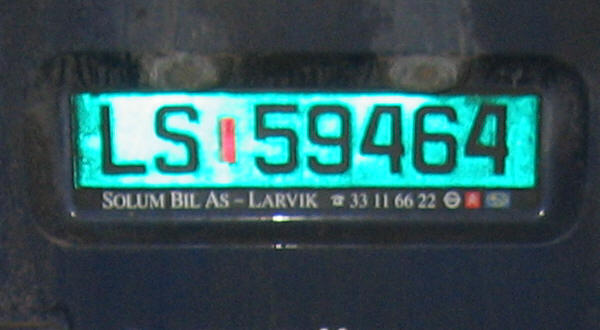license_plate: (72, 91, 537, 191)
